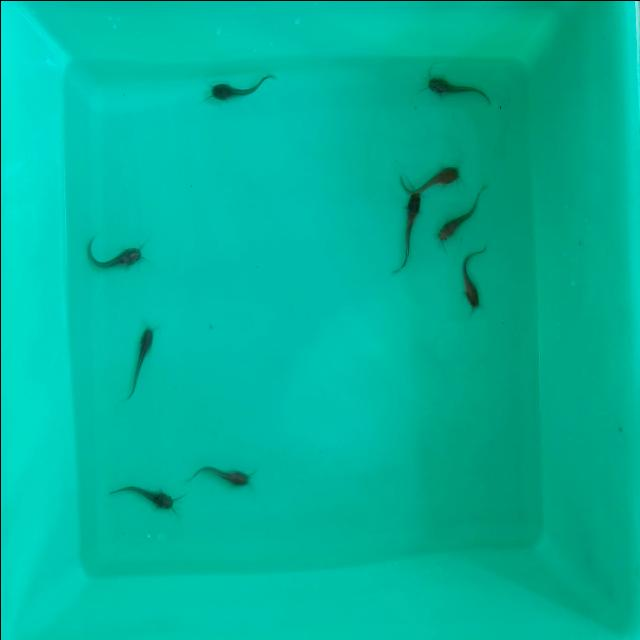lele: (106, 481, 176, 517), (122, 324, 154, 400), (423, 72, 494, 106), (396, 161, 462, 193), (396, 192, 421, 272), (86, 236, 142, 270), (207, 78, 277, 104), (437, 196, 477, 240), (458, 252, 488, 310), (190, 460, 250, 488)
